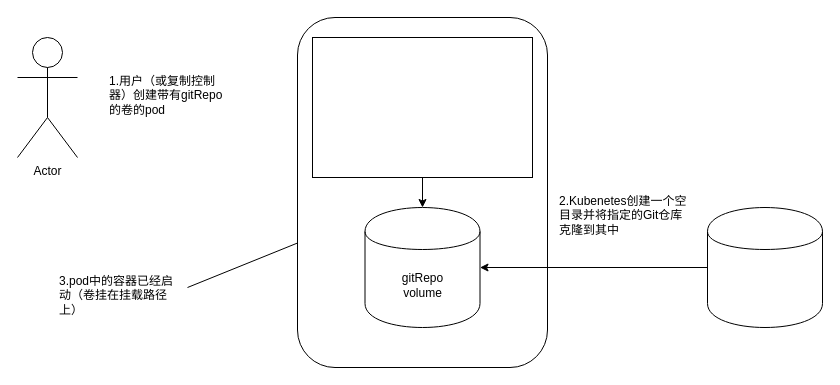
This 840x385 diagram has some shape labels left out. Here are the shapes that lost their labels. From the top down, the box of each, then its label:
(312, 36, 532, 178): 容器
(706, 206, 822, 328): git Repository
